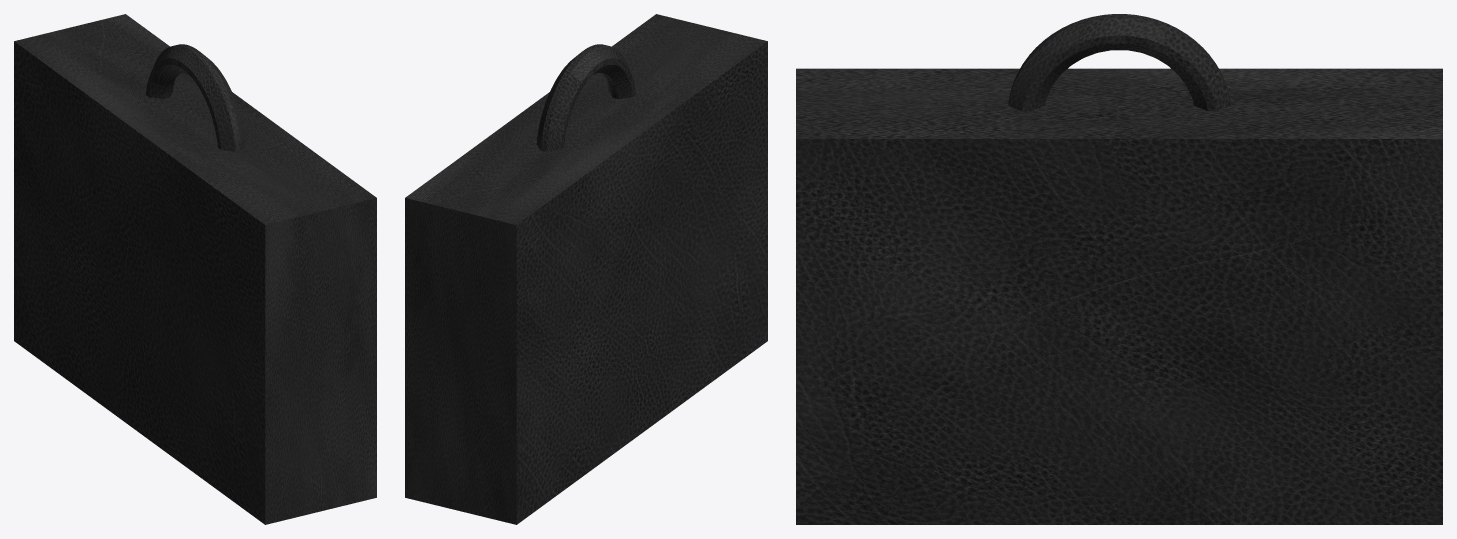
The model's file is Suitcase.fbx.
The picture shows the model from 3 angles, left to right: view 1: azimuth 30°, elevation 25°; view 2: azimuth 150°, elevation 25°; view 3: azimuth 270°, elevation 25°; orthographic projection. The views are drawn at different scales.
Parts seen in each view (by area): view 1: Cube, Circle; view 2: Cube, Circle; view 3: Cube, Circle.
Part boxes in pixels (x1,y1,x2,y2): Cube: (14, 14, 376, 524); Circle: (145, 44, 245, 151); Cube: (405, 14, 767, 524); Circle: (536, 44, 636, 151); Cube: (796, 68, 1442, 524); Circle: (1008, 14, 1230, 111).
Bounding box in the file's own units: 51.34 × 200 × 162.
1 material, 1 textured.
